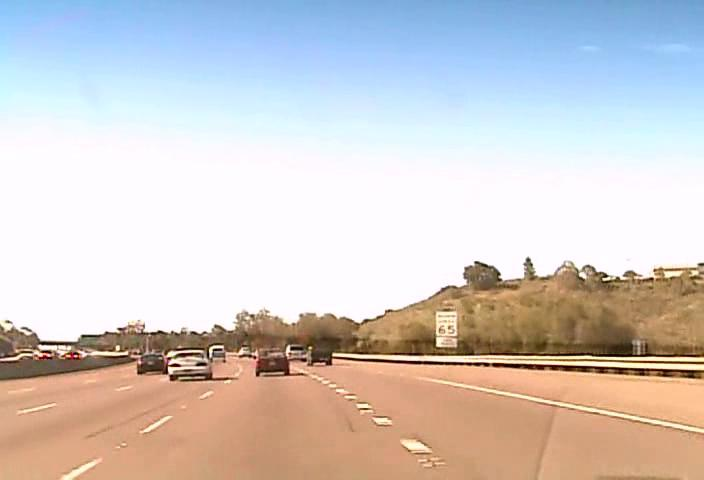speedLimit65: (435, 310, 458, 337)
